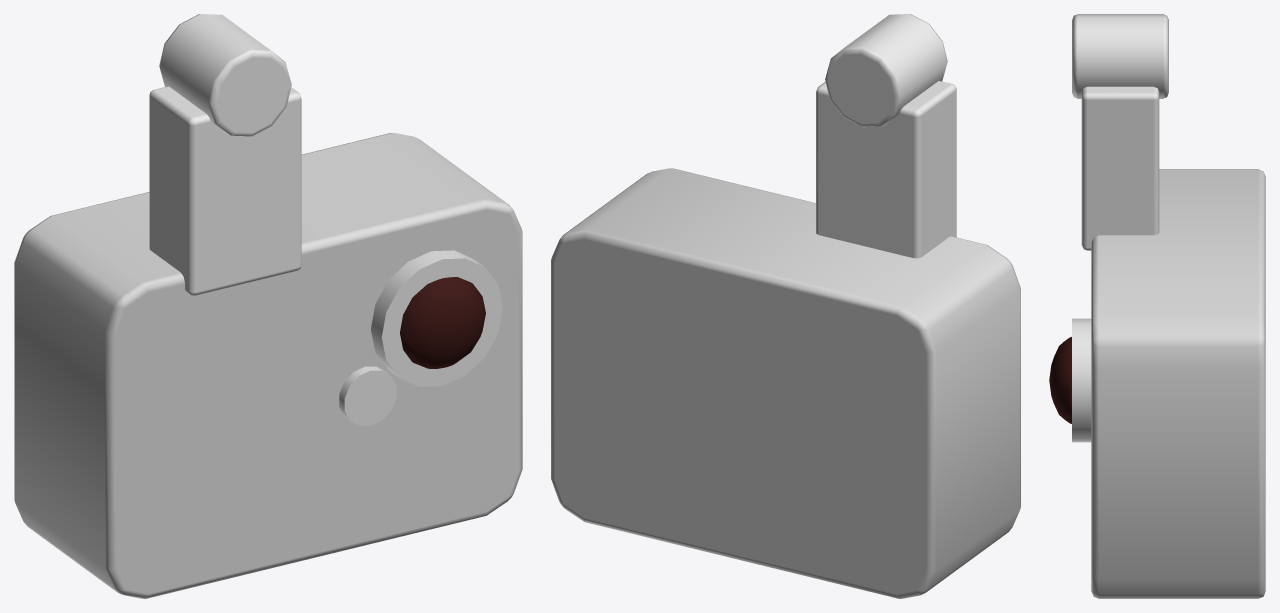
The model's file is WorkerHand_Limiter.fbx.
3 views of the same model, side by side, from view 1: azimuth 30°, elevation 25°; view 2: azimuth 150°, elevation 25°; view 3: azimuth 270°, elevation 25° (orthographic). The views are drawn at different scales.
Visible parts, largest first — view 1: Hand_LimiterBody, Hand_LimiterLoadCell, Hand_LimiterLedBezel, Hand_LimiterLens, Hand_LimiterTestPad; view 2: Hand_LimiterBody, Hand_LimiterLoadCell; view 3: Hand_LimiterBody, Hand_LimiterLoadCell, Hand_LimiterLedBezel, Hand_LimiterLens.
Part boxes in pixels (x1=…): Hand_LimiterBody: x1=14, y1=132, x2=522, y2=598; Hand_LimiterLoadCell: x1=149, y1=14, x2=301, y2=295; Hand_LimiterLedBezel: x1=371, y1=250, x2=502, y2=386; Hand_LimiterLens: x1=400, y1=277, x2=485, y2=368; Hand_LimiterTestPad: x1=339, y1=366, x2=396, y2=426; Hand_LimiterBody: x1=551, y1=168, x2=1020, y2=598; Hand_LimiterLoadCell: x1=816, y1=14, x2=956, y2=258; Hand_LimiterBody: x1=1091, y1=169, x2=1265, y2=598; Hand_LimiterLoadCell: x1=1072, y1=14, x2=1168, y2=250; Hand_LimiterLedBezel: x1=1072, y1=318, x2=1091, y2=442; Hand_LimiterLens: x1=1049, y1=337, x2=1071, y2=423.
Size of the model in its own units: 0.022 by 0.027 by 0.0112.
